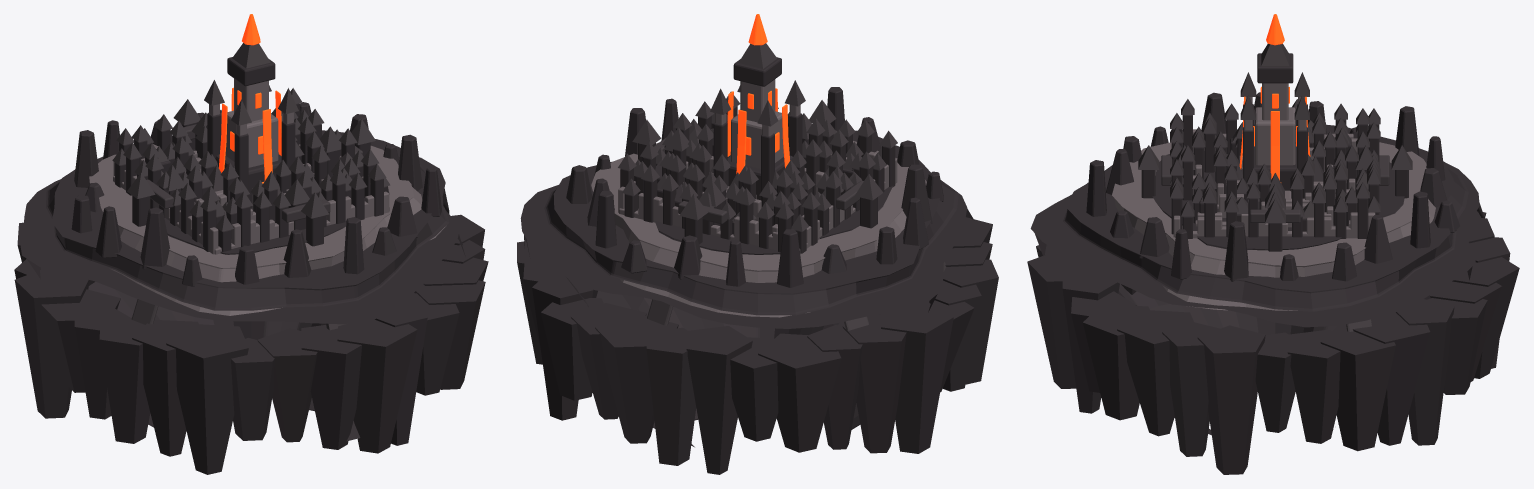
The model's file is lava-labyrinth-v5-correction.glb.
3 views of the same model, side by side, from view 1: azimuth 30°, elevation 25°; view 2: azimuth 150°, elevation 25°; view 3: azimuth 270°, elevation 25° (orthographic).
Parts seen in each view (by area): view 1: I020_CLIFF_BUTTRESSES, I020_CRATER_CITY_TERRACES, I020_MAZE_BASTIONS, I020_TERRAIN_SHELL, I020_CRATER_CROWN_CRAGS, I020_CRUCIBLE_KEEP, I020_FOUR_GATEHOUSES, I020_CONNECTED_9X9_MAZE, I020_KEEP_MOLTEN_APERTURES, I020_CITY_MESA, I020_LAVA_CHANNEL_BEDS; view 2: I020_CLIFF_BUTTRESSES, I020_CRATER_CITY_TERRACES, I020_MAZE_BASTIONS, I020_TERRAIN_SHELL, I020_CRATER_CROWN_CRAGS, I020_CRUCIBLE_KEEP, I020_FOUR_GATEHOUSES, I020_CONNECTED_9X9_MAZE, I020_KEEP_MOLTEN_APERTURES, I020_MAZE_CITY_MASSES, I020_LAVA_CHANNEL_BEDS, I020_CITY_MESA; view 3: I020_CLIFF_BUTTRESSES, I020_CRATER_CITY_TERRACES, I020_MAZE_BASTIONS, I020_TERRAIN_SHELL, I020_CRATER_CROWN_CRAGS, I020_CRUCIBLE_KEEP, I020_FOUR_GATEHOUSES, I020_CONNECTED_9X9_MAZE, I020_KEEP_MOLTEN_APERTURES, I020_MAZE_CITY_MASSES, I020_CITY_MESA.
Part boxes in pixels (box(x1,y1,x2,y2)): I020_CLIFF_BUTTRESSES: box(14, 214, 488, 474); I020_CRATER_CITY_TERRACES: box(46, 130, 449, 310); I020_MAZE_BASTIONS: box(112, 88, 390, 251); I020_TERRAIN_SHELL: box(20, 157, 465, 427); I020_CRATER_CROWN_CRAGS: box(71, 102, 441, 286); I020_CRUCIBLE_KEEP: box(204, 43, 298, 208); I020_FOUR_GATEHOUSES: box(127, 99, 375, 246); I020_CONNECTED_9X9_MAZE: box(113, 144, 389, 254); I020_KEEP_MOLTEN_APERTURES: box(218, 14, 281, 183); I020_CITY_MESA: box(111, 226, 445, 315); I020_LAVA_CHANNEL_BEDS: box(131, 299, 158, 324); I020_CLIFF_BUTTRESSES: box(517, 217, 998, 474); I020_CRATER_CITY_TERRACES: box(544, 130, 958, 315); I020_MAZE_BASTIONS: box(618, 91, 897, 253); I020_TERRAIN_SHELL: box(520, 145, 974, 447); I020_CRATER_CROWN_CRAGS: box(566, 87, 943, 287); I020_CRUCIBLE_KEEP: box(709, 43, 805, 207); I020_FOUR_GATEHOUSES: box(632, 100, 883, 244); I020_CONNECTED_9X9_MAZE: box(618, 129, 897, 253); I020_KEEP_MOLTEN_APERTURES: box(727, 14, 790, 173); I020_MAZE_CITY_MASSES: box(655, 128, 861, 234); I020_LAVA_CHANNEL_BEDS: box(647, 262, 945, 331); I020_CITY_MESA: box(620, 279, 810, 317); I020_CLIFF_BUTTRESSES: box(1027, 211, 1519, 474); I020_CRATER_CITY_TERRACES: box(1063, 124, 1468, 311); I020_MAZE_BASTIONS: box(1170, 99, 1380, 238); I020_TERRAIN_SHELL: box(1030, 161, 1484, 434); I020_CRATER_CROWN_CRAGS: box(1086, 92, 1459, 281); I020_CRUCIBLE_KEEP: box(1226, 44, 1324, 209); I020_FOUR_GATEHOUSES: box(1138, 145, 1412, 251); I020_CONNECTED_9X9_MAZE: box(1173, 129, 1375, 238); I020_KEEP_MOLTEN_APERTURES: box(1239, 14, 1310, 182); I020_MAZE_CITY_MASSES: box(1199, 120, 1368, 231); I020_CITY_MESA: box(1162, 285, 1297, 310).
Bounding box in the file's own units: 12.09 × 11.37 × 12.6.
